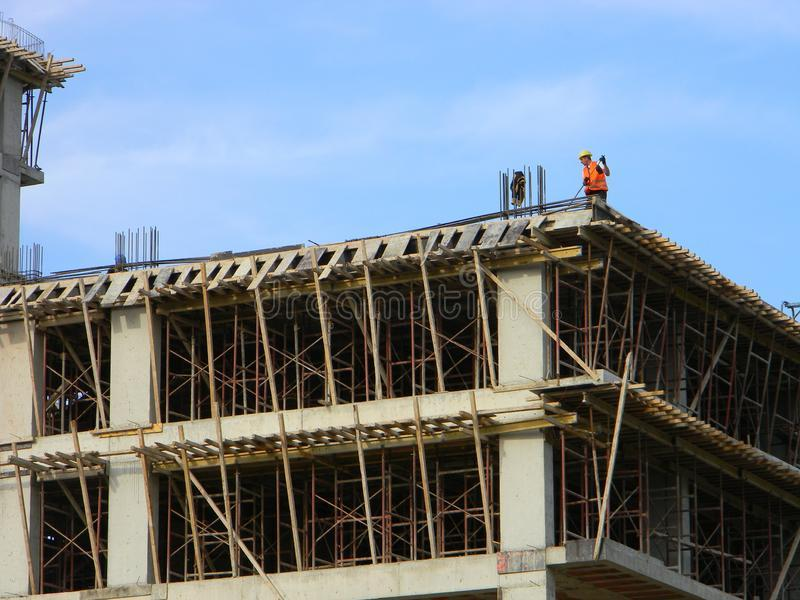helmet: (579, 150, 594, 162)
